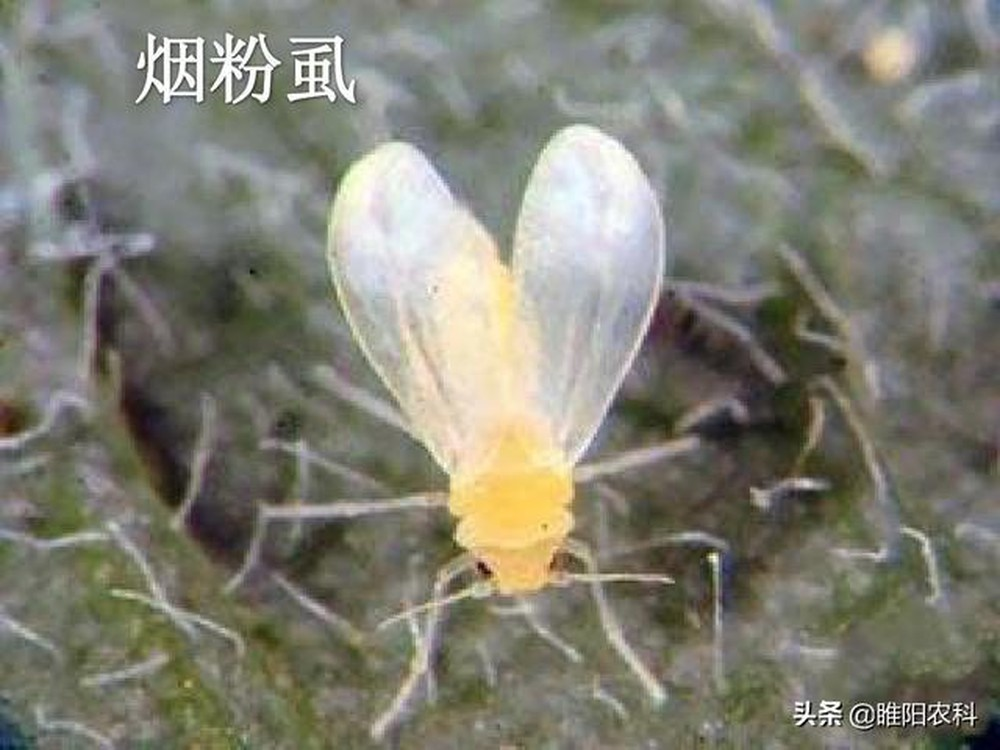Mosca Blanca: (272, 127, 781, 715)
